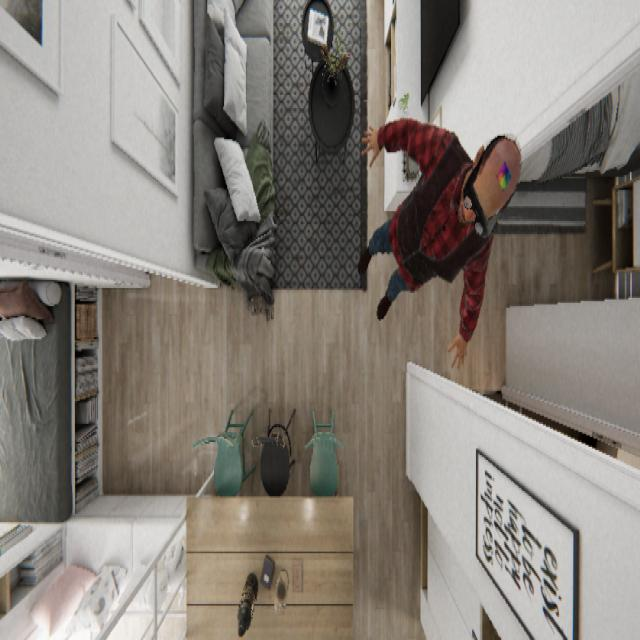Colored-Marker: (495, 157, 512, 193)
Human: (357, 115, 522, 370)
